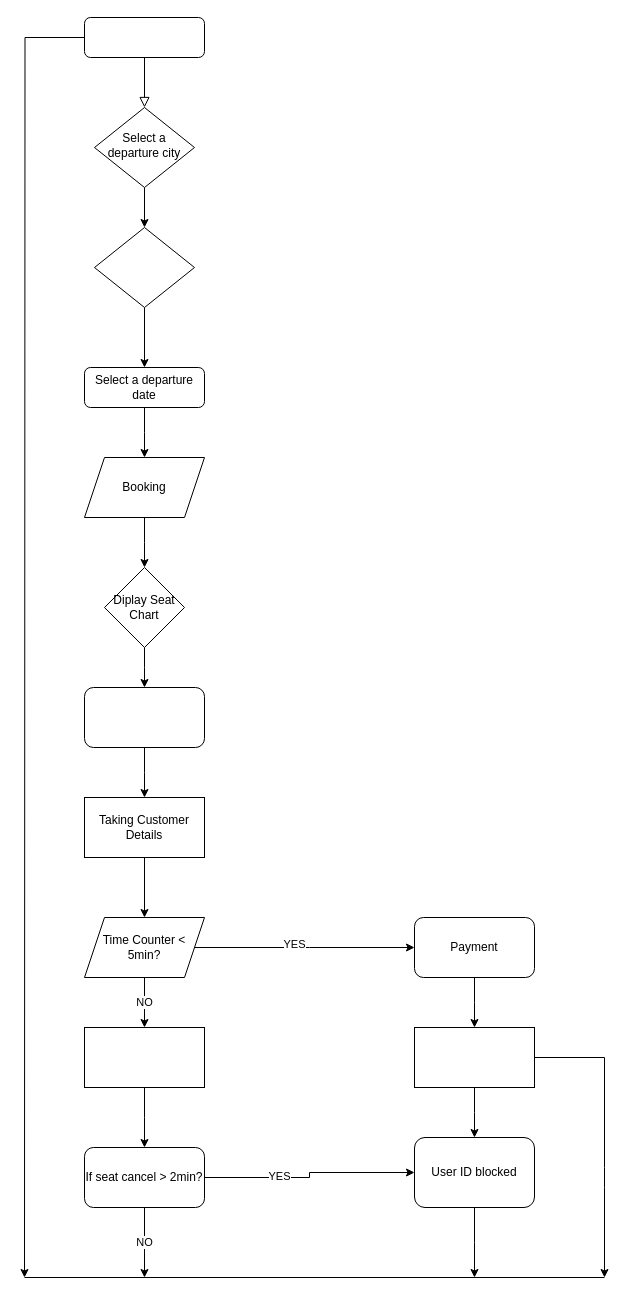
Image size: 630x1303. Some labels were removed from this diagram. The shapes that lost their labels are listed below. From the top down, each one's box as (x1, y1, x2, y2) in pixels, then its label:
(84, 16, 204, 58): Customer opens Website
(94, 226, 194, 308): Select a destination city
(84, 686, 204, 748): Seat Selection
(84, 1026, 204, 1088): Seat Cancellation
(414, 1026, 534, 1088): Seat Confirmation
